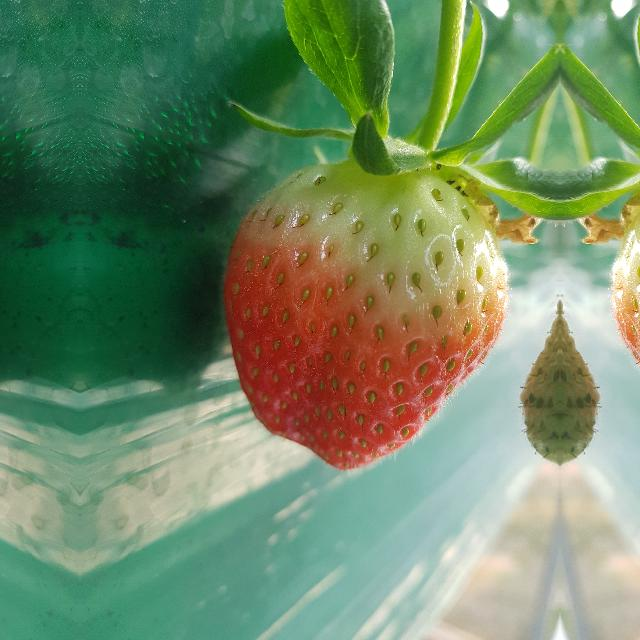Health_75: (221, 158, 505, 472)
